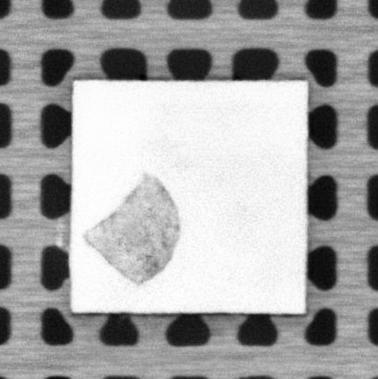DIE_INK: (79, 171, 181, 286)
